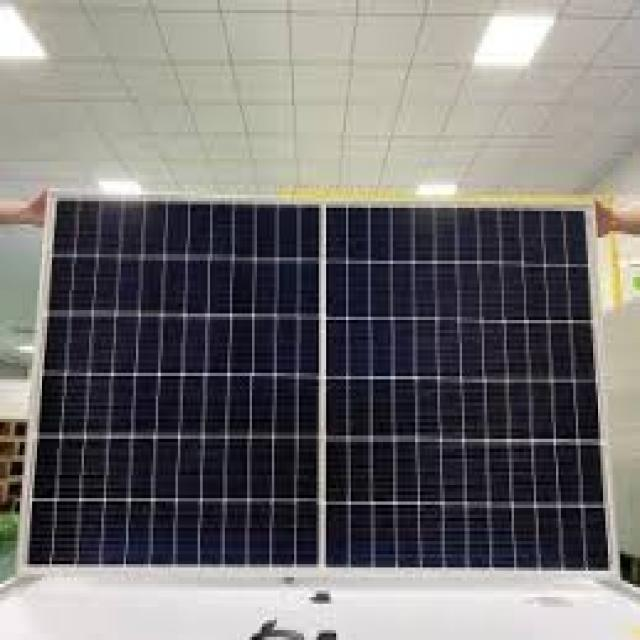no faulty: (27, 192, 612, 588)
